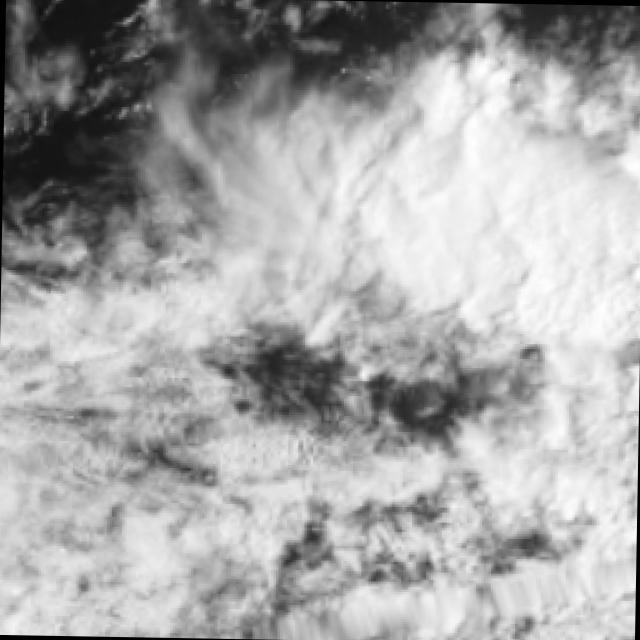CB: (406, 141, 587, 312)
